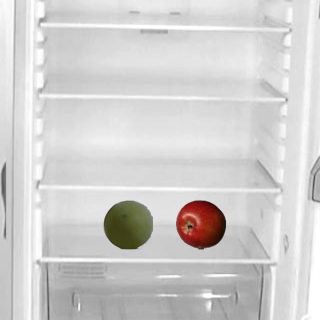Apple Braeburn: (175, 199, 225, 249)
Grape White 4: (102, 199, 152, 249)
